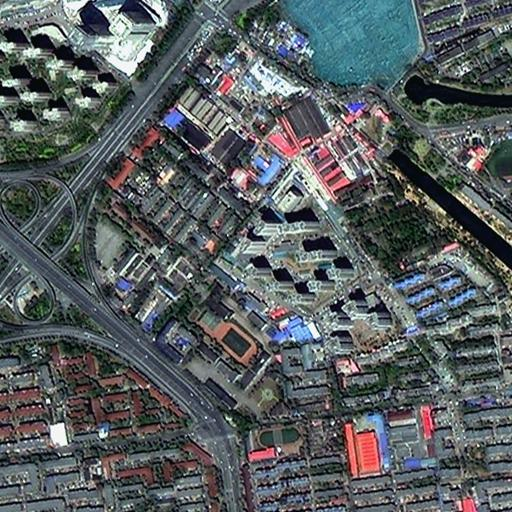school: (245, 420, 305, 464)
